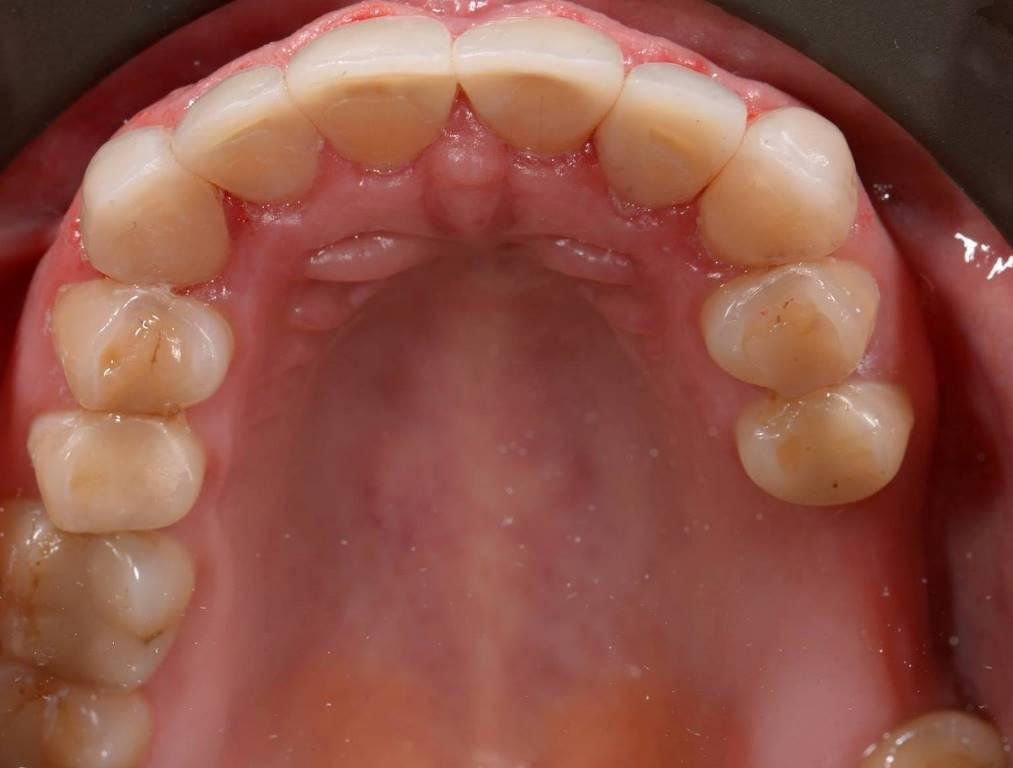UL1BC_decay: (732, 265, 865, 393)
UL1M_decay: (796, 507, 924, 658)
UL2BC_decay: (741, 394, 910, 498)
ULCI_healthy: (459, 17, 614, 151)
ULC_healthy: (730, 126, 851, 257)
ULLI_healthy: (610, 71, 737, 190)
UR1BC_decay: (45, 281, 237, 413)
UR1M_healthy: (1, 525, 194, 677)
UR2BC_healthy: (34, 400, 201, 539)
URCI_healthy: (293, 20, 459, 165)
URC_healthy: (81, 137, 236, 290)
URLI_healthy: (183, 83, 311, 188)
